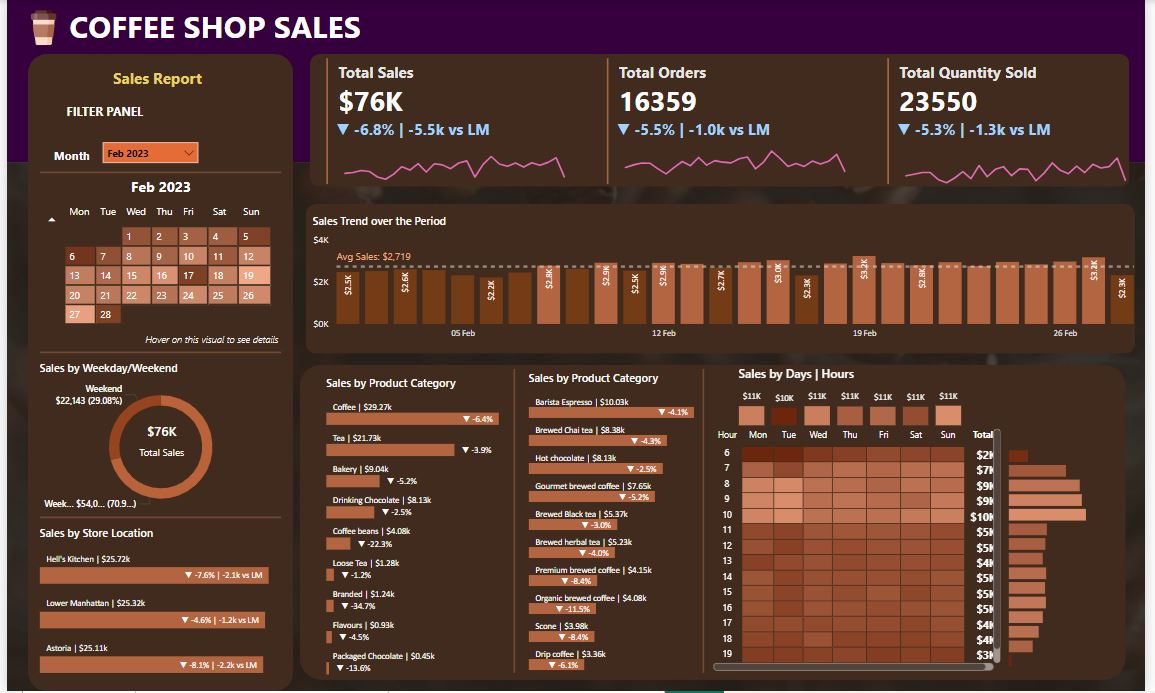

The page's visual inventory and layout, read from the dashboard file:
{"tool":"powerbi","page":{"name":"Page 1","canvas":[1400,850],"ordinal":0},"visuals":[{"type":"shape","box":[0,0,1400.5,199.3],"z":0},{"type":"shape","box":[26.5,66.1,326.3,783.8],"z":1000},{"type":"shape","box":[373.5,67.3,1008.2,163.3],"z":2000},{"type":"textbox","box":[72,1.8,420.7,64.6],"z":3000},{"type":"cardVisual","fields":{"Data":["Transactions.Total Sales"]},"box":[386.9,67.2,299.8,165.4],"z":4000,"group":"g1"},{"type":"cardVisual","fields":{"Data":["Transactions.Total Orders"]},"box":[732,67.2,299.8,165.4],"z":4000,"group":"g2"},{"type":"cardVisual","fields":{"Data":["Transactions.Total Quantity Sold"]},"box":[1077,67.2,299.8,165.4],"z":4000,"group":"g3"},{"type":"slicer","fields":{"Values":["Date Table.Month Year"]},"box":[112.4,169.8,127.9,39.7],"z":4000},{"type":"group","id":"g1","title":"Group 1","box":[386.9,67.2,313.1,165.4],"z":5000},{"type":"group","id":"g2","title":"Group 1","box":[732,67.2,313.1,165.4],"z":6000},{"type":"lineChart","fields":{"Y":["Transactions.Total Sales"],"Category":["Date Table.Date Hierarchy.Date"]},"box":[400.1,146.6,299.8,86],"z":6000,"group":"g1"},{"type":"lineChart","fields":{"Category":["Date Table.Date Hierarchy.Date"],"Y":["Transactions.Total Orders"]},"box":[745.2,146.6,299.8,86],"z":6000,"group":"g2"},{"type":"lineChart","fields":{"Category":["Date Table.Date Hierarchy.Date"],"Y":["Transactions.Total Quantity Sold"]},"box":[1090.2,146.6,299.8,86],"z":6000,"group":"g3"},{"type":"group","id":"g3","title":"Group 1","box":[1077,67.2,313.1,165.4],"z":7000},{"type":"pivotTable","fields":{"Rows":["Date Table.Week Number"],"Columns":["Date Table.Day Name"],"Values":["Min(Date Table.Day Number)"]},"box":[40.8,243.6,296.5,190.7],"z":8000},{"type":"card","fields":{"Values":["Min(Date Table.Month Year)"]},"box":[112.4,201.7,153.2,60.6],"z":9000},{"type":"card","fields":{"Values":["Transactions.Foot Note"]},"box":[81.6,378.1,340.6,81.6],"z":10000},{"type":"shape","box":[40.8,412.3,296.5,44.1],"z":11000},{"type":"shape","box":[40.8,189.6,296.5,44.1],"z":12000},{"type":"donutChart","title":"Sales by Weekday/Weekend","fields":{"Category":["Date Table.Weekday/Weekend"],"Y":["Transactions.Total Sales"]},"box":[35.3,442,307.6,195.1],"z":13000},{"type":"card","fields":{"Values":["Transactions.Total Sales"]},"box":[124.6,499.4,129,80.5],"z":14000},{"type":"shape","box":[40.8,615.1,296.5,44.1],"z":15000},{"type":"clusteredBarChart","title":"Sales by Store Location","fields":{"Category":["Transactions.store_location"],"Y":["Transactions.Placeholder","Transactions.Total Sales"]},"box":[35.3,646,317.5,189.6],"z":16000},{"type":"shape","box":[366.4,250.2,1020.6,184.2],"z":17000},{"type":"columnChart","title":"Sales Trend over the Period","fields":{"Category":["Transactions.transaction_date"],"Y":["Transactions.Total Sales"]},"box":[370.4,262.4,1020.8,163.1],"z":18000},{"type":"shape","box":[360.5,447.6,1016.4,388],"z":19000},{"type":"clusteredBarChart","title":"Sales by Product Category","fields":{"Y":["Transactions.Placeholder","Transactions.Total Sales"],"Category":["Transactions.product_category"]},"box":[386.9,461.9,244.7,373.7],"z":20000},{"type":"shape","box":[584.3,454.2,78.3,373.7],"z":21000},{"type":"clusteredBarChart","title":"Sales by Product Category","fields":{"Y":["Transactions.Placeholder","Transactions.Total Sales"],"Category":["Transactions.product_type"]},"box":[637.2,456.4,244.7,373.7],"z":22000},{"type":"shape","box":[816.9,454.2,78.3,373.7],"z":23000},{"type":"pivotTable","fields":{"Rows":["Transactions.Hour"],"Columns":["Date Table.Day Name"],"Values":["Transactions.Total Sales"]},"box":[863.1,522.5,363.8,307.6],"z":24000},{"type":"clusteredBarChart","fields":{"Category":["Transactions.Hour"],"Y":["Transactions.Total Sales"]},"box":[1226.9,540.2,108,284.4],"z":25000},{"type":"columnChart","title":"Sales by Days | Hours","fields":{"Y":["Transactions.Total Sales"],"Category":["Date Table.Day Name"]},"box":[895.1,447.6,284.4,80.5],"z":26000},{"type":"textbox","box":[41.9,151,82.7,60.6],"z":27000},{"type":"textbox","box":[124.6,78.3,178.6,40.8],"z":28000},{"type":"textbox","box":[68.3,121.3,125.7,60.6],"z":29000},{"type":"image","box":[18.7,7.7,52.9,52.9],"z":30000}]}

Visuals, with their boxes in screenshot pixels (x1, y1, x2, y2), scaled from the page's 1400x850 canvas onto the 1155x693 screenshot:
shape: locate(0, 0, 1154, 162)
shape: locate(22, 54, 291, 692)
shape: locate(308, 55, 1140, 188)
textbox: locate(59, 1, 406, 54)
cardVisual - Transactions.Total Sales: locate(319, 55, 567, 190)
cardVisual - Transactions.Total Orders: locate(604, 55, 851, 190)
cardVisual - Transactions.Total Quantity Sold: locate(889, 55, 1136, 190)
slicer - Date Table.Month Year: locate(93, 138, 198, 171)
"Group 1" group: locate(319, 55, 578, 190)
"Group 1" group: locate(604, 55, 862, 190)
lineChart - Transactions.Total Sales x Date Table.Date Hierarchy.Date: locate(330, 120, 577, 190)
lineChart - Date Table.Date Hierarchy.Date x Transactions.Total Orders: locate(615, 120, 862, 190)
lineChart - Date Table.Date Hierarchy.Date x Transactions.Total Quantity Sold: locate(899, 120, 1147, 190)
"Group 1" group: locate(889, 55, 1147, 190)
pivotTable - Date Table.Week Number x Date Table.Day Name: locate(34, 199, 278, 354)
card - Min(Date Table.Month Year): locate(93, 164, 219, 214)
card - Transactions.Foot Note: locate(67, 308, 348, 375)
shape: locate(34, 336, 278, 372)
shape: locate(34, 155, 278, 191)
"Sales by Weekday/Weekend" donutChart: locate(29, 360, 283, 519)
card - Transactions.Total Sales: locate(103, 407, 209, 473)
shape: locate(34, 501, 278, 537)
"Sales by Store Location" clusteredBarChart: locate(29, 527, 291, 681)
shape: locate(302, 204, 1144, 354)
"Sales Trend over the Period" columnChart: locate(306, 214, 1148, 347)
shape: locate(297, 365, 1136, 681)
"Sales by Product Category" clusteredBarChart: locate(319, 377, 521, 681)
shape: locate(482, 370, 547, 675)
"Sales by Product Category" clusteredBarChart: locate(526, 372, 728, 677)
shape: locate(674, 370, 739, 675)
pivotTable - Transactions.Hour x Date Table.Day Name: locate(712, 426, 1012, 677)
clusteredBarChart - Transactions.Hour x Transactions.Total Sales: locate(1012, 440, 1101, 672)
"Sales by Days | Hours" columnChart: locate(738, 365, 973, 431)
textbox: locate(35, 123, 103, 173)
textbox: locate(103, 64, 250, 97)
textbox: locate(56, 99, 160, 148)
image: locate(15, 6, 59, 49)
